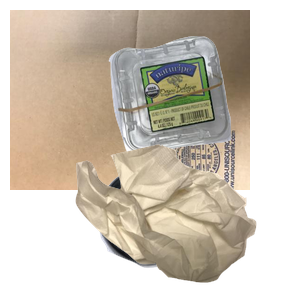cardboard: (10, 10, 250, 190)
glass: (95, 164, 286, 300)
plastic: (106, 34, 300, 183)
trash: (73, 142, 300, 300)
